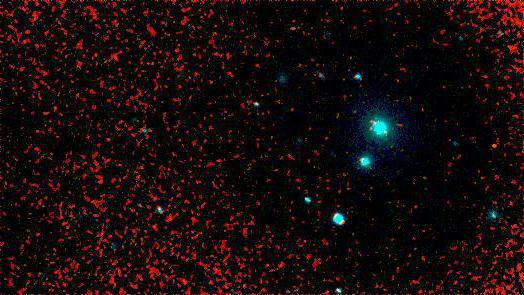star: (480, 132, 510, 162)
